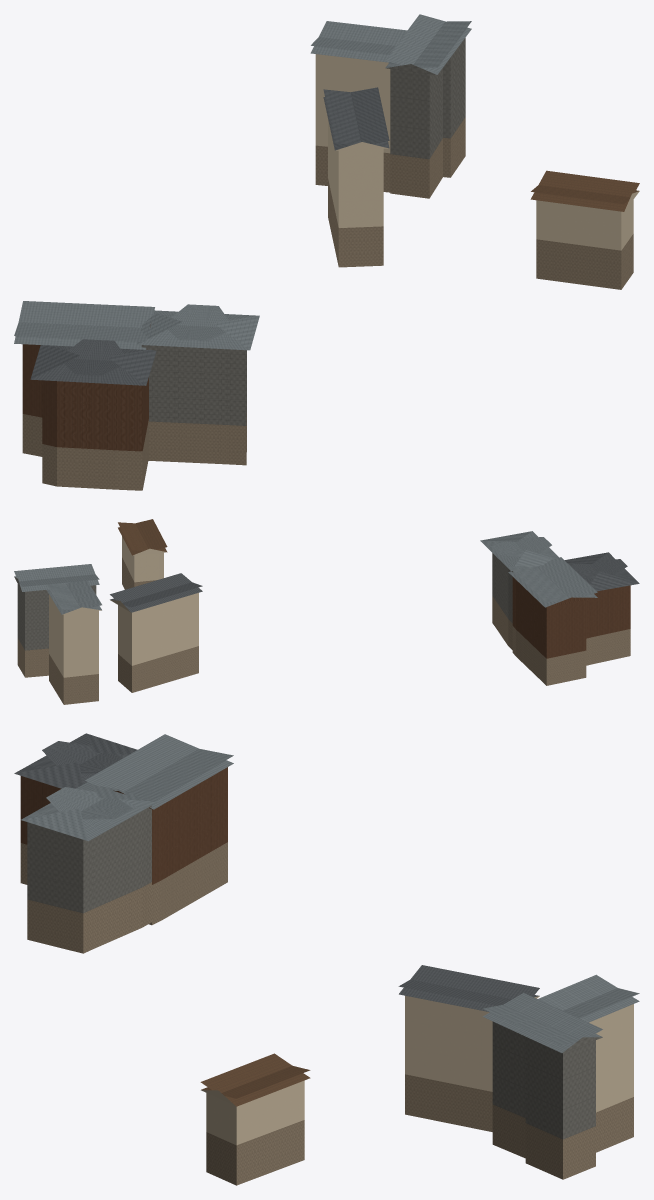
The model's file is bld_c17_28_384.gltf.
3 renders of one model, top to bottom at view 1: azimuth 30°, elevation 25°; view 2: azimuth 150°, elevation 25°; view 3: azimuth 270°, elevation 25°, orthographic. The views are drawn at different scales.
Visible parts, largest first — view 1: bld_c17_28_384; view 2: bld_c17_28_384; view 3: bld_c17_28_384.
Boxes of the visible parts, bbox=[...] form: bld_c17_28_384: bbox=[14, 14, 639, 490]; bld_c17_28_384: bbox=[14, 519, 639, 704]; bld_c17_28_384: bbox=[14, 733, 639, 1185].
Size of the model in its own units: 92.68 by 19.2 by 71.89.
10 materials, 10 textured.
